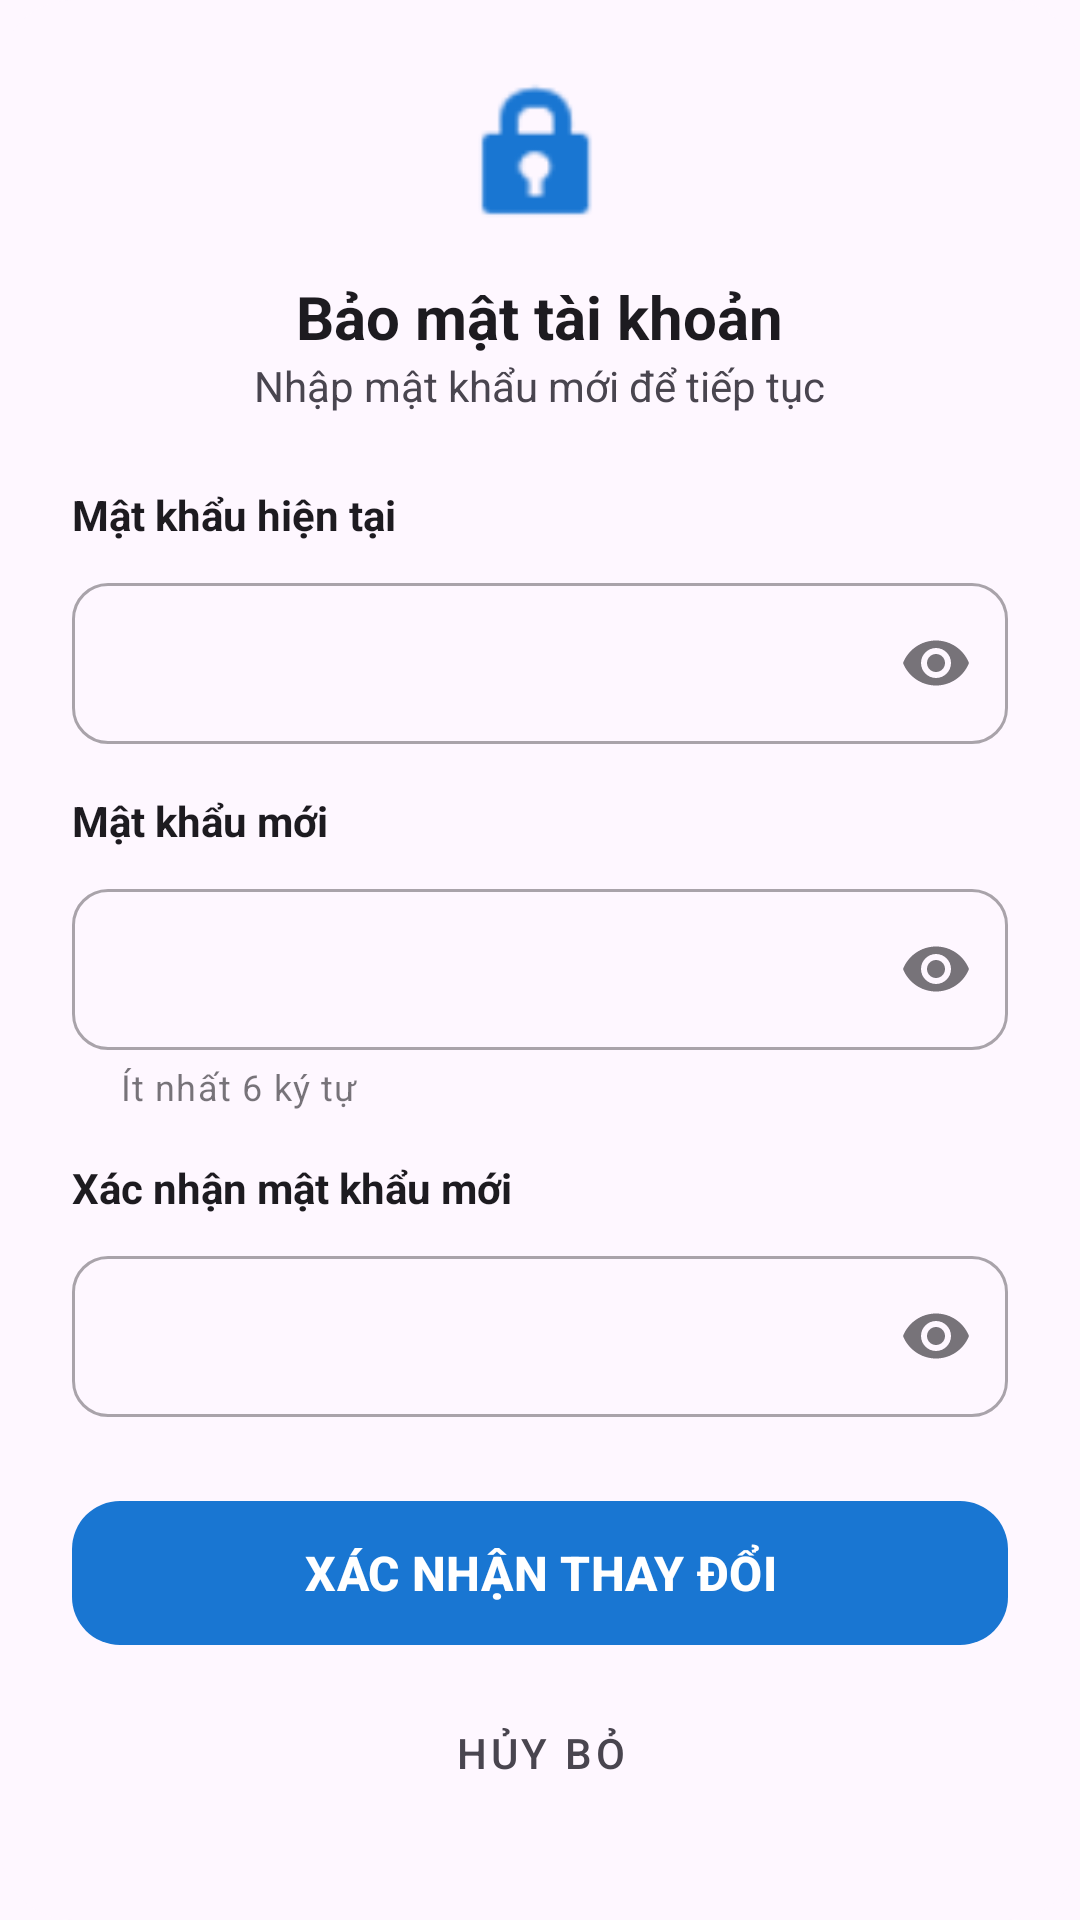

Icons on this 1080px×1920px Android screen, each with the point to tap as [x,y]:
lock idle: [536,150]
